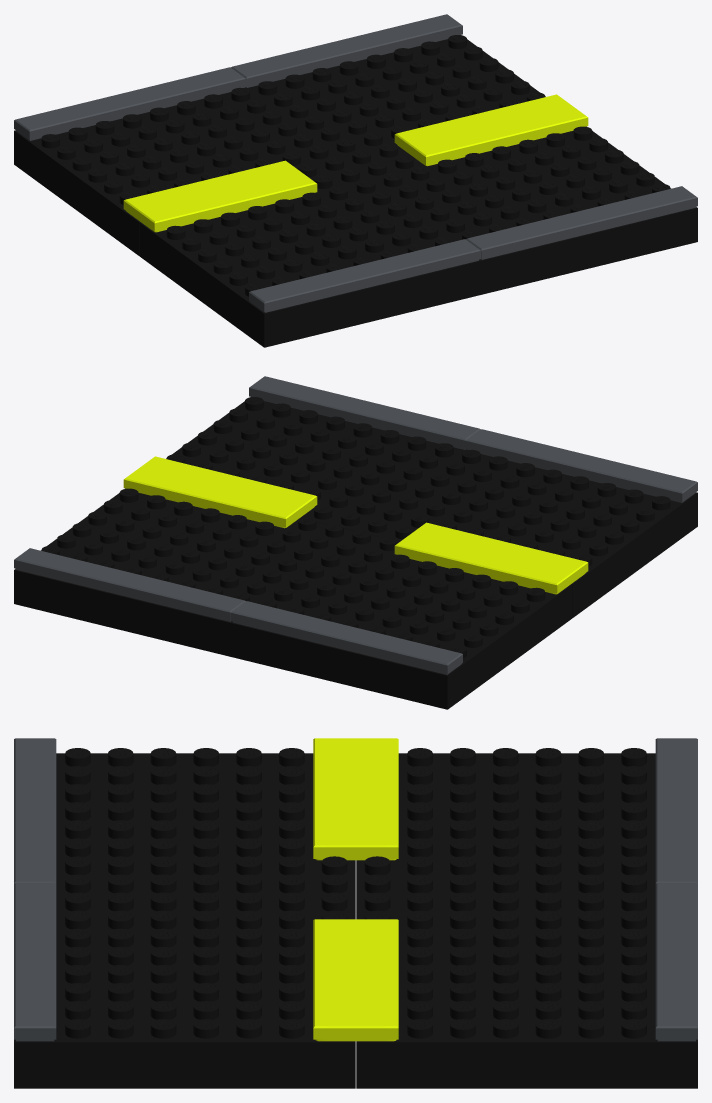
File: Straight-Road.fbx
The picture shows the model from 3 angles, top to bottom: view 1: azimuth 30°, elevation 25°; view 2: azimuth 150°, elevation 25°; view 3: azimuth 270°, elevation 25°; orthographic projection. The views are drawn at different scales.
Visible parts, largest first — view 1: part, part.001, part.006, part.007, part.005, part.004, part.002, part.003; view 2: part.001, part, part.006, part.007, part.002, part.003, part.005, part.004; view 3: part, part.001, part.006, part.007, part.003, part.004, part.002, part.005.
Part boxes in pixels (x1,y1,x2,y2): part: [139, 126, 697, 347]; part.001: [14, 35, 545, 255]; part.006: [394, 94, 588, 166]; part.007: [123, 160, 317, 232]; part.005: [249, 239, 480, 312]; part.004: [466, 186, 697, 259]; part.002: [14, 67, 246, 140]; part.003: [231, 14, 462, 87]; part.001: [14, 488, 572, 709]; part: [166, 397, 697, 617]; part.006: [123, 456, 317, 528]; part.007: [394, 522, 588, 594]; part.002: [231, 601, 462, 674]; part.003: [14, 548, 245, 621]; part.005: [465, 429, 697, 502]; part.004: [249, 376, 480, 449]; part: [14, 748, 355, 1088]; part.001: [356, 748, 697, 1088]; part.006: [313, 919, 398, 1041]; part.007: [313, 738, 398, 860]; part.003: [655, 883, 697, 1041]; part.004: [14, 883, 56, 1041]; part.002: [655, 738, 697, 883]; part.005: [14, 738, 56, 883].
Size of the model in its own units: 12792 by 1276 by 12792.
